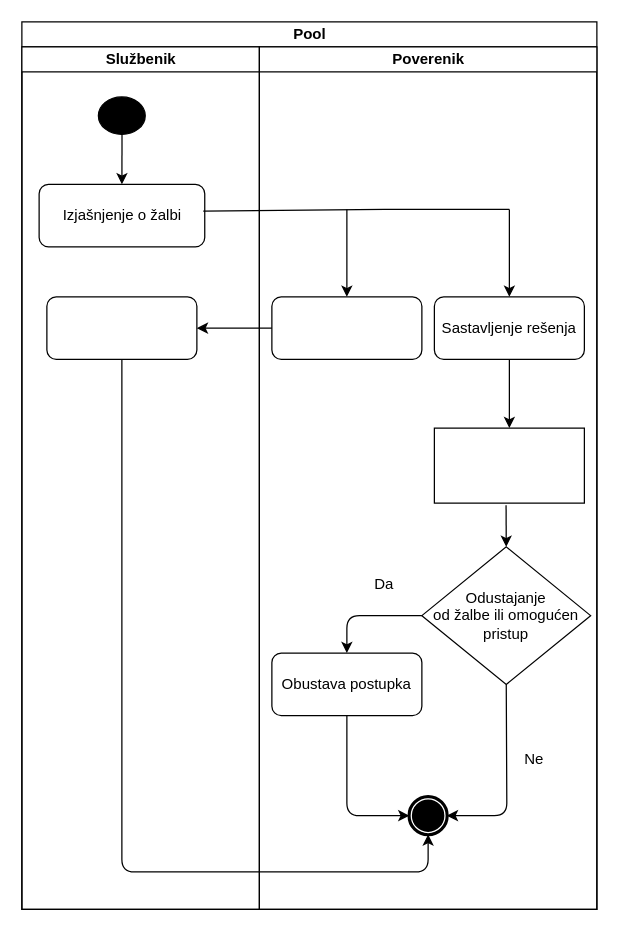
This 619x931 diagram has some shape labels left out. Each missing label, with the centre of its shape:
Primanje zahteva: (121,327)
Rešenje: (508,465)
Slanje zahteva za dostavu traženih informacija: (346,327)
